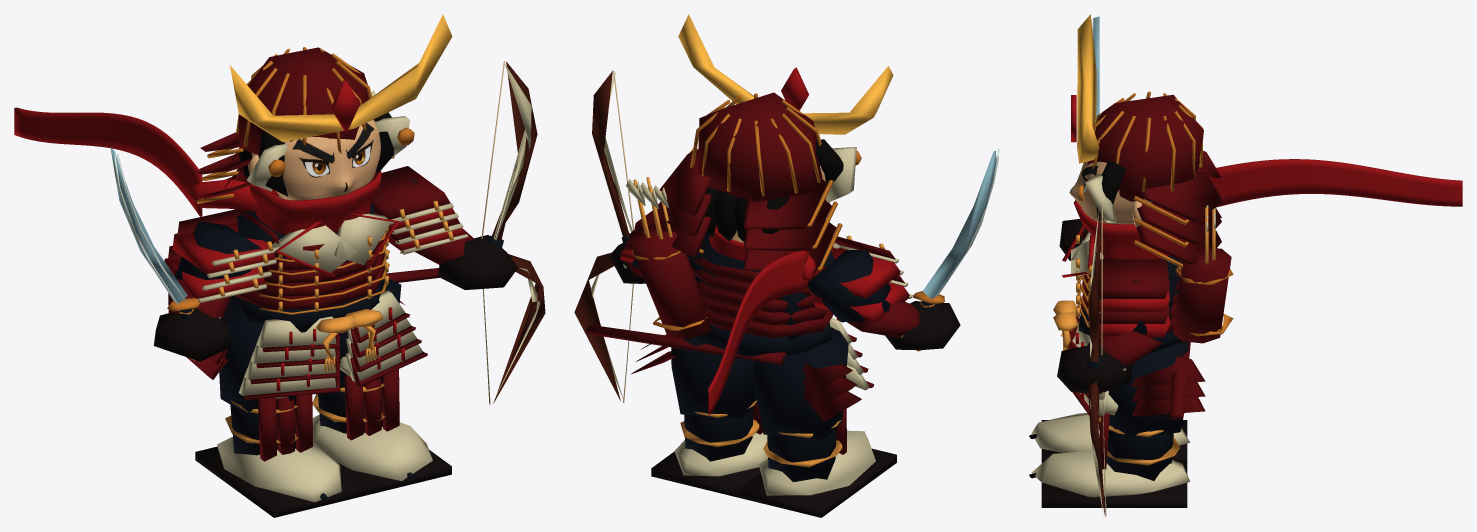
Rendered from samurai.glb.
3 renders of one model, left to right at view 1: azimuth 30°, elevation 25°; view 2: azimuth 150°, elevation 25°; view 3: azimuth 270°, elevation 25°, orthographic. The views are drawn at different scales.
Parts seen in each view (by area): view 1: Head_Geometry, Body_Geometry, Leg_R_Geometry, Leg_L_Geometry, Arm_R_Geometry, Arm_L_Geometry, ScarfTail_Geometry, Weapon_Pistol_Geometry, Weapon_Cutlass_Geometry; view 2: Head_Geometry, Body_Geometry, Leg_R_Geometry, Leg_L_Geometry, Arm_R_Geometry, Weapon_Pistol_Geometry, ScarfTail_Geometry, Weapon_Cutlass_Geometry, Arm_L_Geometry; view 3: Head_Geometry, Leg_L_Geometry, Body_Geometry, Arm_L_Geometry, ScarfTail_Geometry, Weapon_Pistol_Geometry, Leg_R_Geometry, Arm_R_Geometry, Weapon_Cutlass_Geometry.
Boxes of the visible parts, x1=… form: Head_Geometry: x1=184, y1=14, x2=452, y2=234; Body_Geometry: x1=186, y1=90, x2=439, y2=400; Leg_R_Geometry: x1=195, y1=295, x2=364, y2=517; Leg_L_Geometry: x1=312, y1=279, x2=451, y2=496; Arm_R_Geometry: x1=153, y1=208, x2=280, y2=361; Arm_L_Geometry: x1=370, y1=166, x2=517, y2=289; ScarfTail_Geometry: x1=14, y1=107, x2=202, y2=216; Weapon_Pistol_Geometry: x1=481, y1=61, x2=545, y2=405; Weapon_Cutlass_Geometry: x1=110, y1=147, x2=200, y2=360; Head_Geometry: x1=648, y1=14, x2=893, y2=281; Body_Geometry: x1=585, y1=177, x2=874, y2=421; Leg_R_Geometry: x1=734, y1=327, x2=896, y2=517; Leg_L_Geometry: x1=651, y1=336, x2=767, y2=497; Arm_R_Geometry: x1=808, y1=235, x2=960, y2=350; Weapon_Pistol_Geometry: x1=574, y1=70, x2=634, y2=402; ScarfTail_Geometry: x1=708, y1=250, x2=808, y2=414; Weapon_Cutlass_Geometry: x1=913, y1=148, x2=1000, y2=351; Arm_L_Geometry: x1=609, y1=210, x2=690, y2=283; Head_Geometry: x1=1069, y1=14, x2=1221, y2=268; Leg_L_Geometry: x1=1029, y1=341, x2=1190, y2=507; Body_Geometry: x1=1053, y1=205, x2=1233, y2=419; Arm_L_Geometry: x1=1057, y1=259, x2=1176, y2=393; ScarfTail_Geometry: x1=1209, y1=159, x2=1462, y2=206; Weapon_Pistol_Geometry: x1=1086, y1=205, x2=1106, y2=516; Leg_R_Geometry: x1=1029, y1=413, x2=1190, y2=459; Arm_R_Geometry: x1=1059, y1=219, x2=1087, y2=260; Weapon_Cutlass_Geometry: x1=1086, y1=16, x2=1099, y2=118.
Bounding box in the file's own units: 2.45 × 2.37 × 2.27.
Materials: 2 (2 with a texture image).
